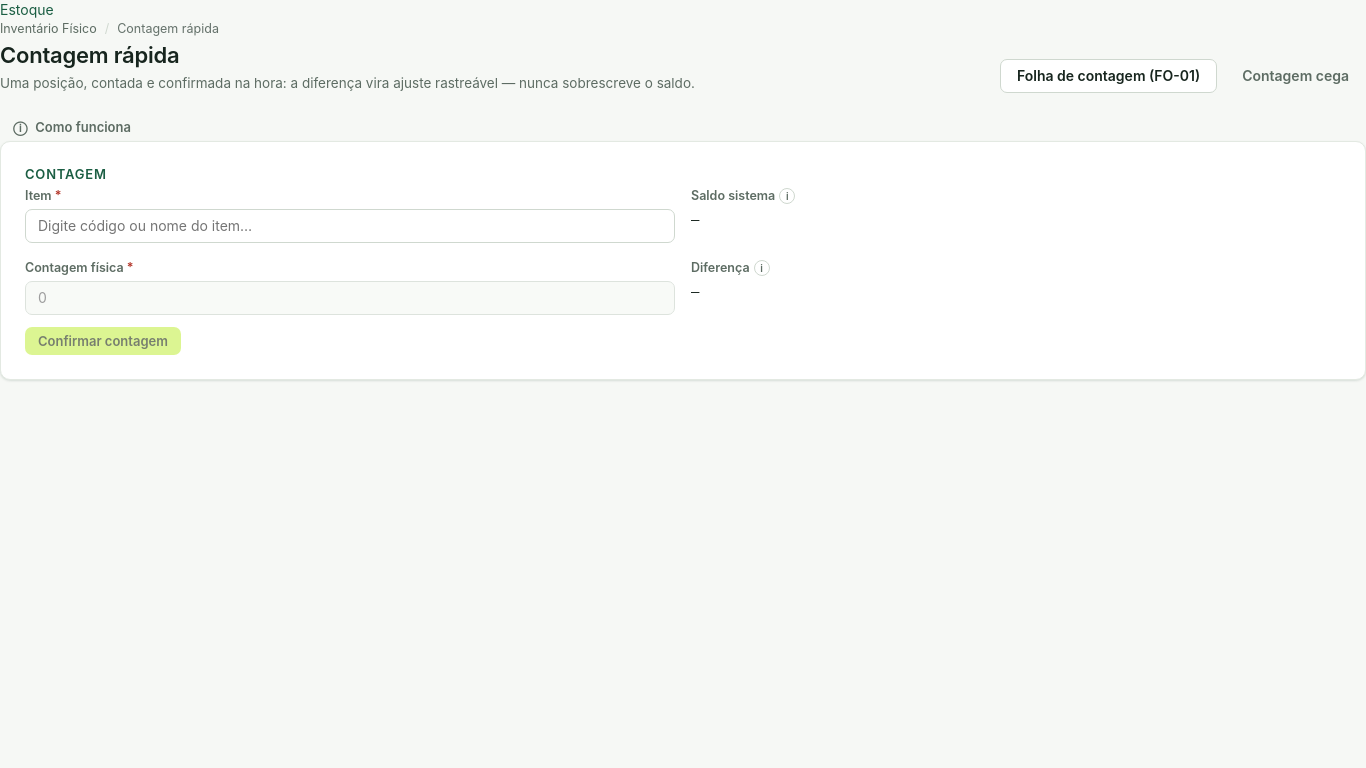
Inventário Físico — guarda de alterações não salvas › contagem digitada pergunta antes de sair
The width and height of the screenshot is (1366, 768).
Expected: the heading "Contagem rápida" is shown, x1=0 y1=42 x2=179 y2=68
Type "MP-000001" into the dropdown with id "count-item" at (350, 226), box x1=25 y1=209 x2=675 y2=243
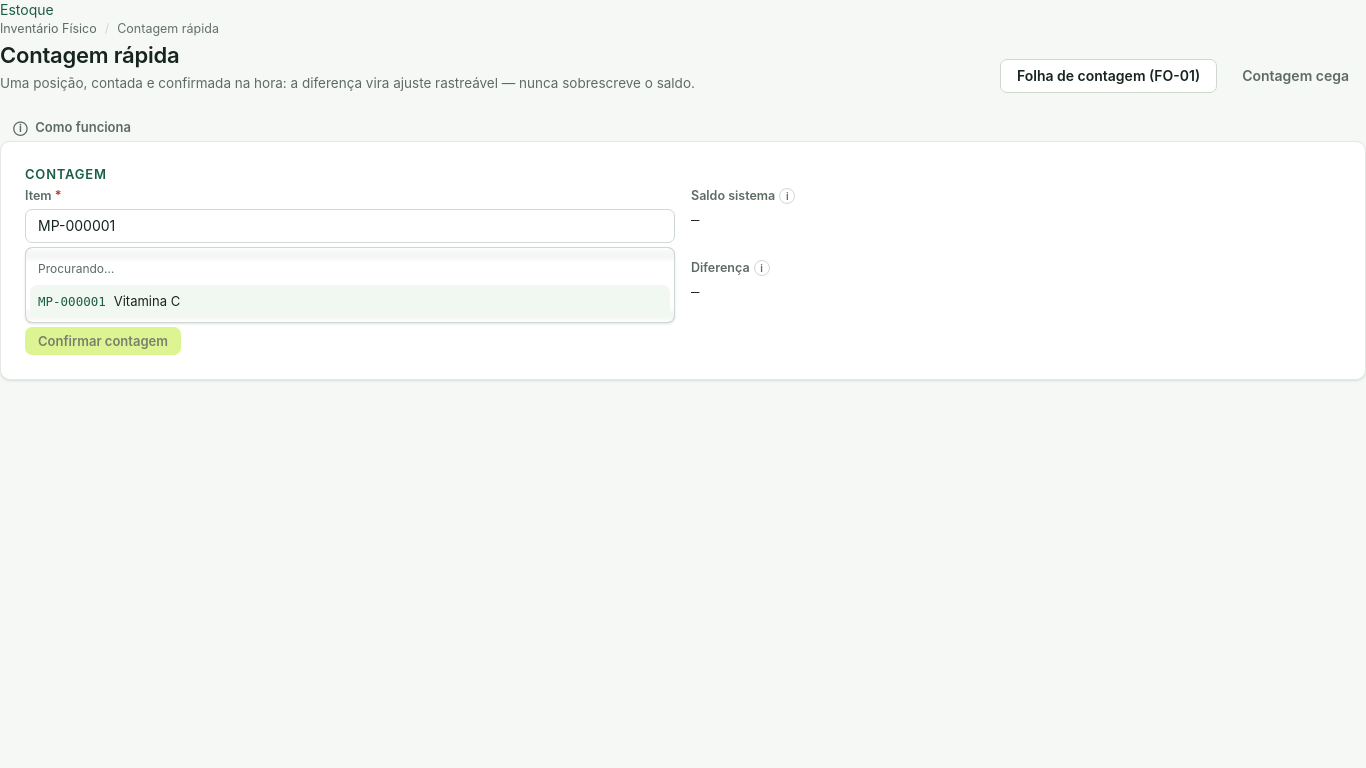
Press the mouse on the option "MP-000001 Vitamina C" at (72, 302), box x1=30 y1=285 x2=670 y2=318
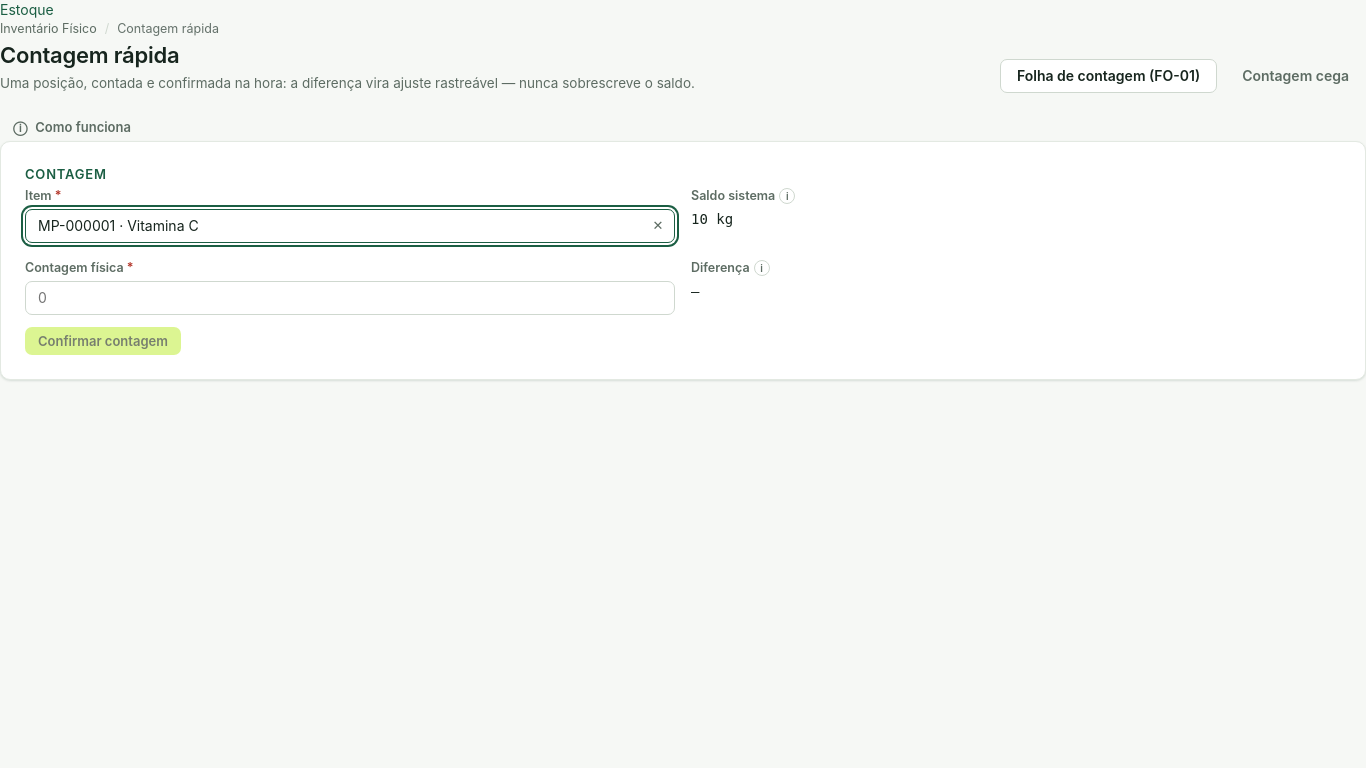
Expected: the field with id "count-quantity" is enabled
Type "8" into the field with id "count-quantity" at (350, 298), box x1=25 y1=281 x2=675 y2=315
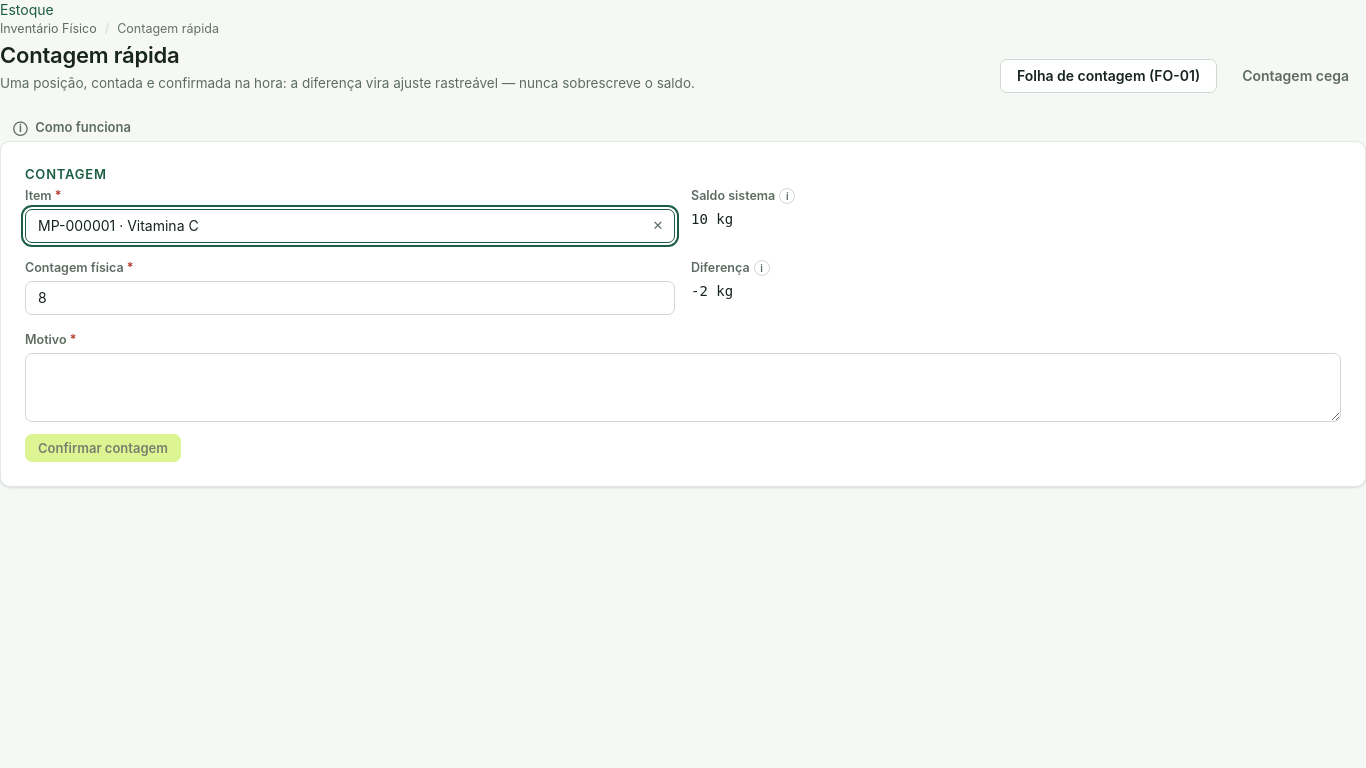
Click the link "Estoque" at (27, 10), box x1=0 y1=1 x2=54 y2=18
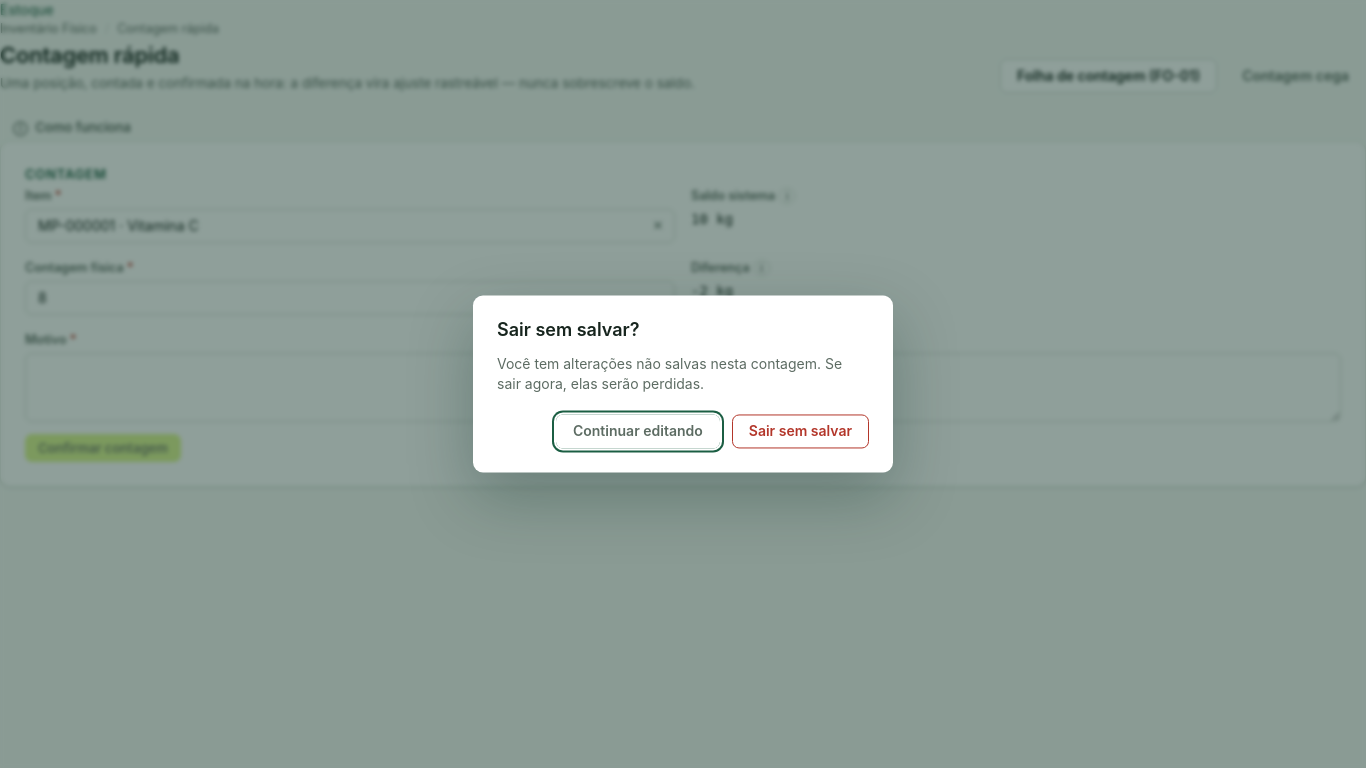
Expected: the heading "Sair sem salvar?" is shown, x1=497 y1=320 x2=640 y2=340
Expected: the text "alterações não salvas nesta contagem" is shown, x1=497 y1=354 x2=869 y2=395
